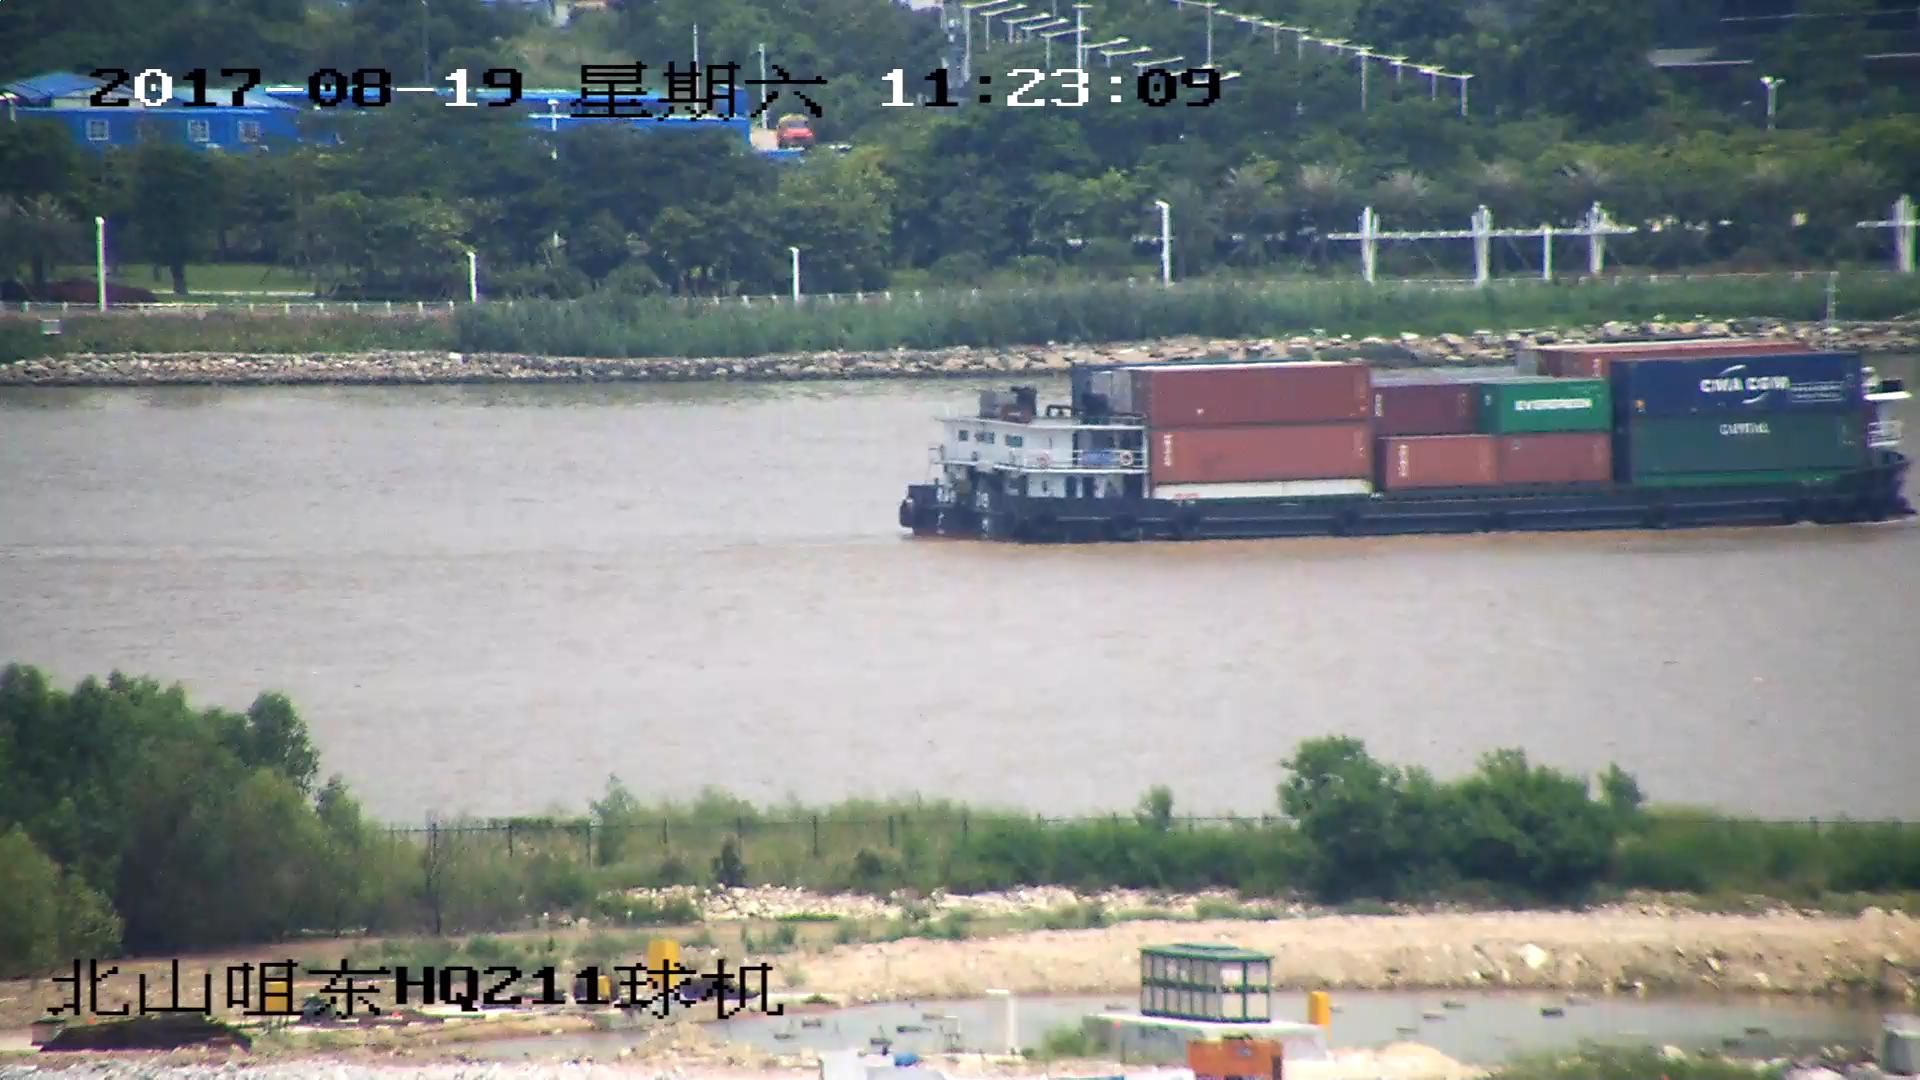container ship: (903, 277, 1910, 541)
